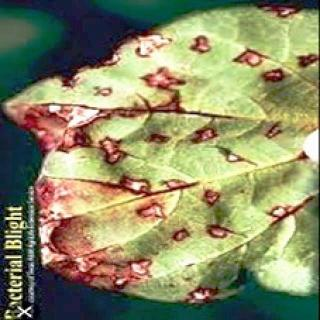blight: (42, 28, 268, 300)
